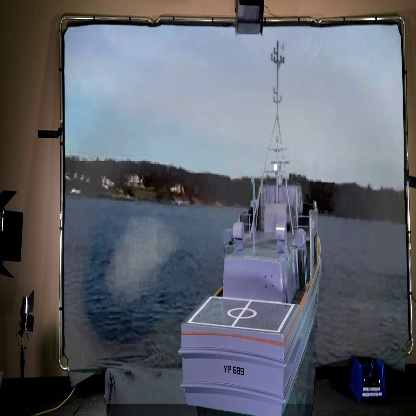YP689: (179, 39, 323, 416)
